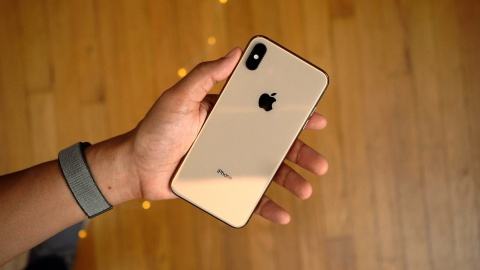apple: (251, 84, 282, 117)
